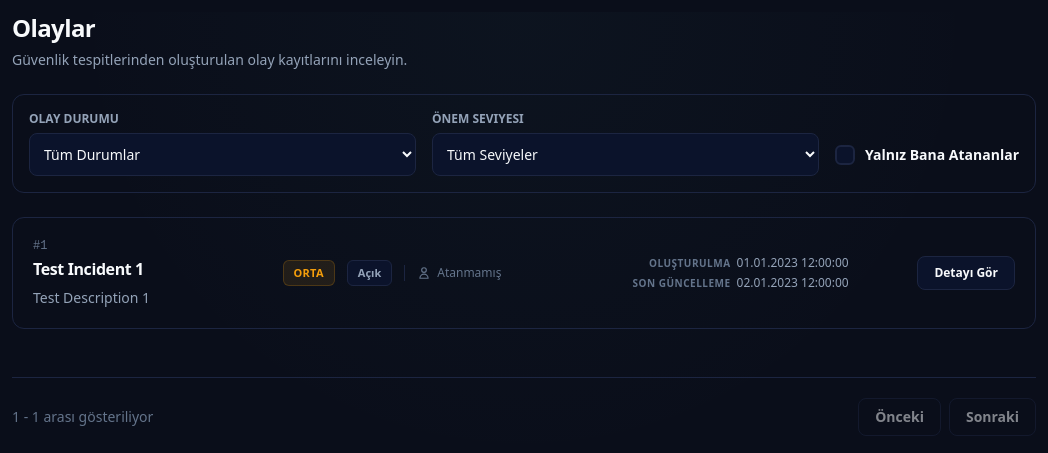
Test: IncidentList › Durumlar › 47. Tekrar Dene aynı filtrelerle yeniden çağırır
Expected: the heading "Test Incident 1" is shown, [33,258,144,280]
// Cause a fail
Select "Açık" in the dropdown labelled "Olay Durumu" at [222, 154], box [29,133,416,176]
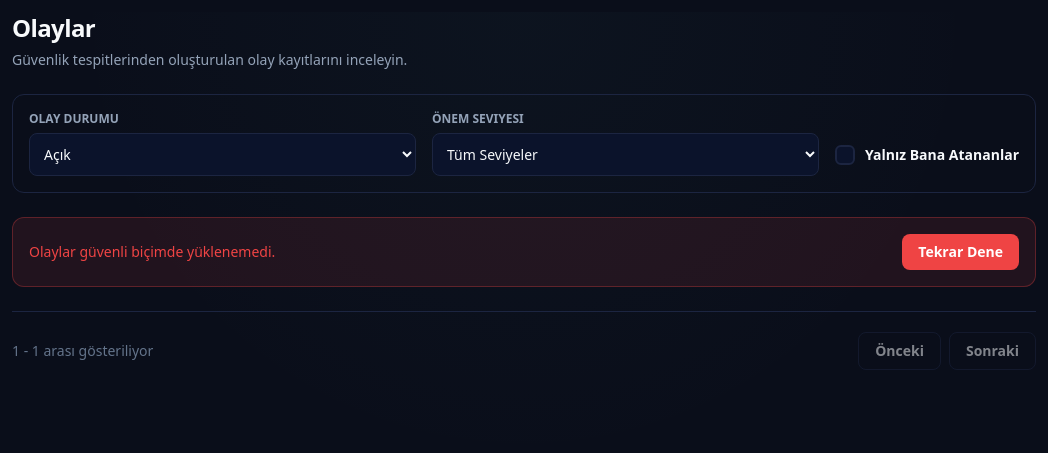
// Click retry
Click the button "Tekrar Dene" at [961, 252], box [902,234,1019,270]
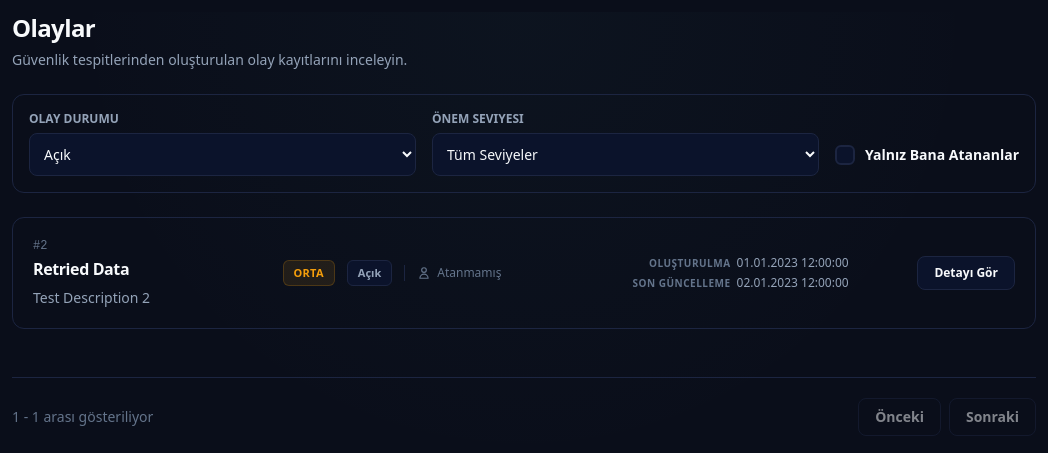
Now the heading "Retried Data" is shown, box [33,258,129,280]
